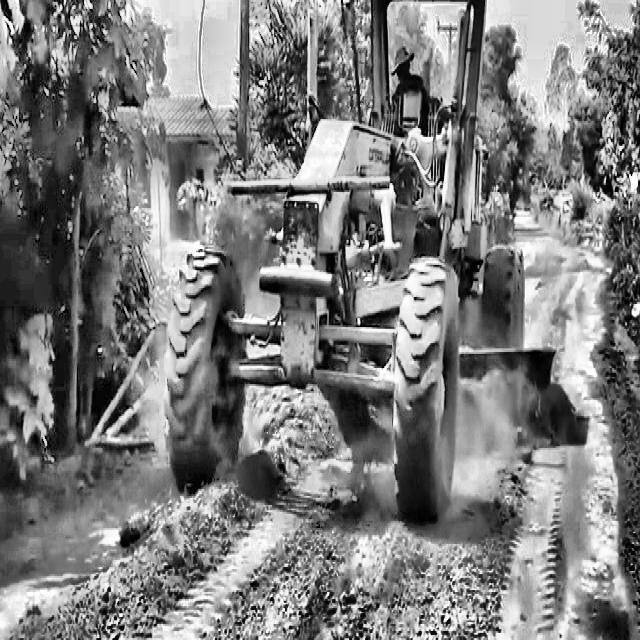buldozerpayloadergrader: (159, 0, 555, 533)
